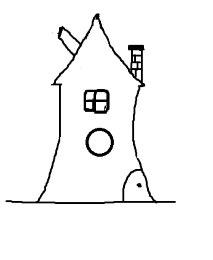chimney: (52, 22, 87, 57), (128, 42, 148, 85)
closed_window: (74, 86, 116, 116)
door: (118, 160, 155, 208)
open_window: (79, 125, 122, 157)
single_line_roof: (44, 11, 165, 88)
wall: (34, 82, 157, 213)
